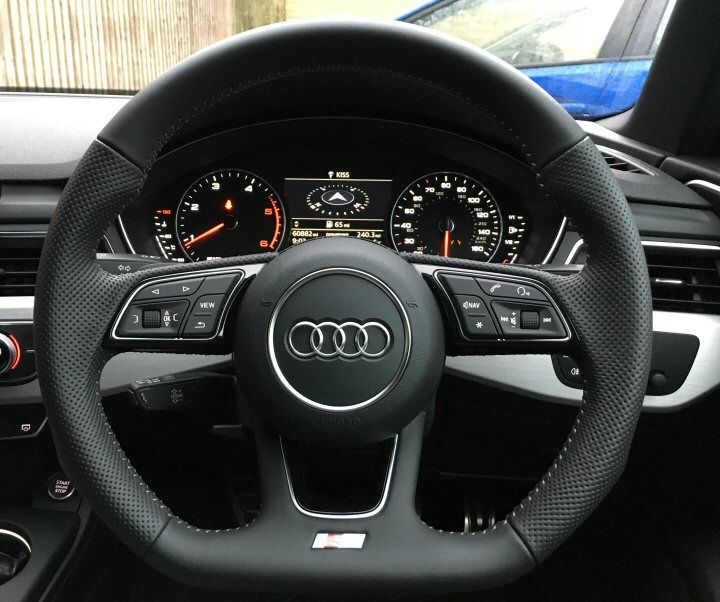audi: (284, 317, 394, 366)
